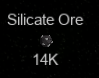Silicate: (6, 13, 84, 66)
